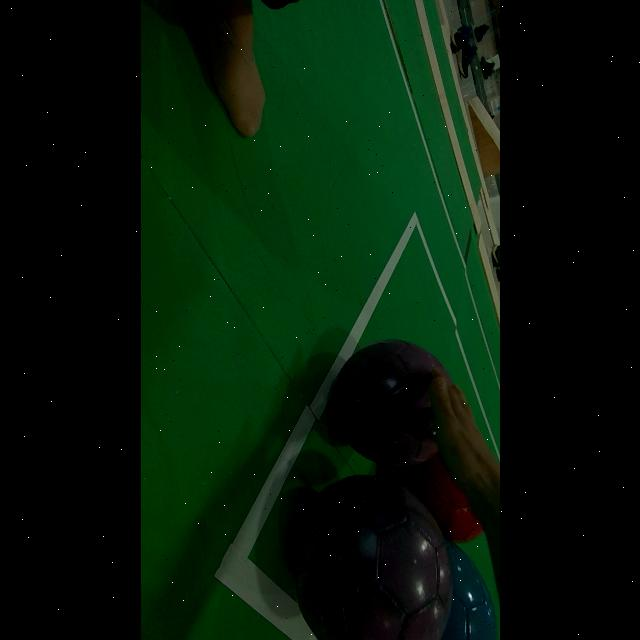B: (440, 539, 497, 640)
P: (293, 475, 453, 640), (333, 340, 447, 466)
R: (391, 454, 483, 543)
